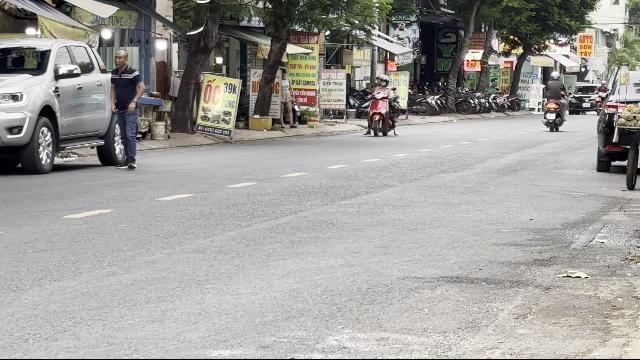helmet: (376, 74, 388, 86)
motorcyclist: (360, 74, 400, 138)
